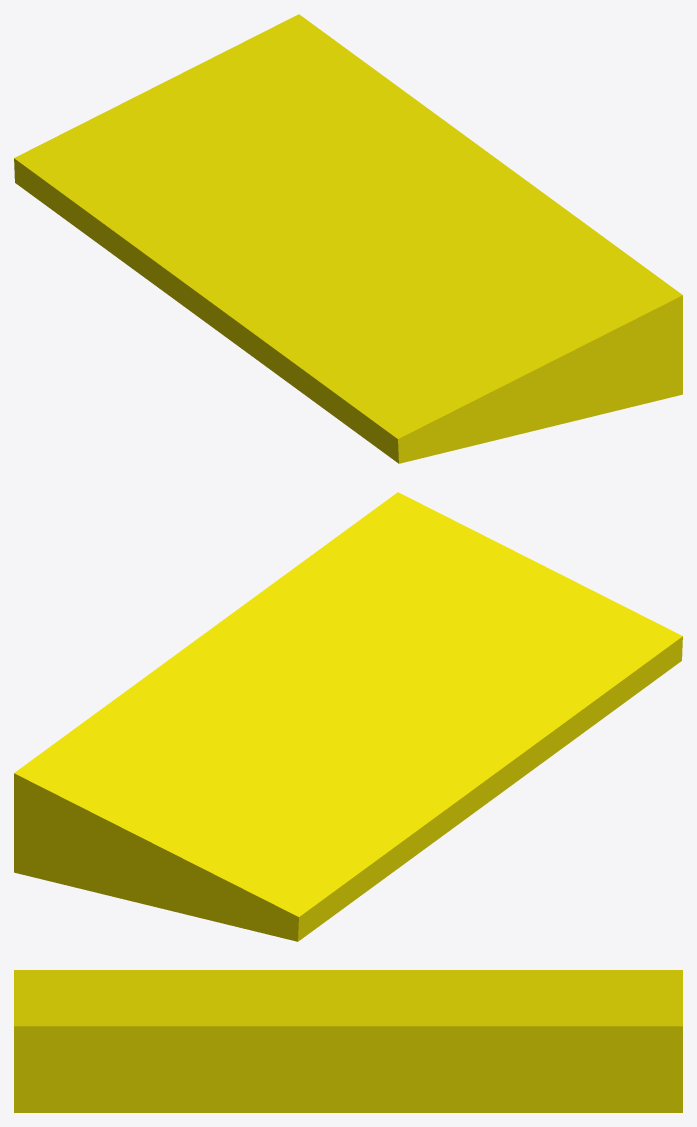
File: corner_beach_90.fbx
The picture shows the model from 3 angles, top to bottom: view 1: azimuth 30°, elevation 25°; view 2: azimuth 150°, elevation 25°; view 3: azimuth 270°, elevation 25°; orthographic projection. The views are drawn at different scales.
Visible parts, largest first — view 1: Box001.001; view 2: Box001.001; view 3: Box001.001.
Part boxes in pixels (x1,y1,x2,y2): Box001.001: (14, 14, 682, 463); Box001.001: (14, 492, 682, 941); Box001.001: (14, 970, 682, 1112).
Bounding box in the file's own units: 120 × 40 × 280.
